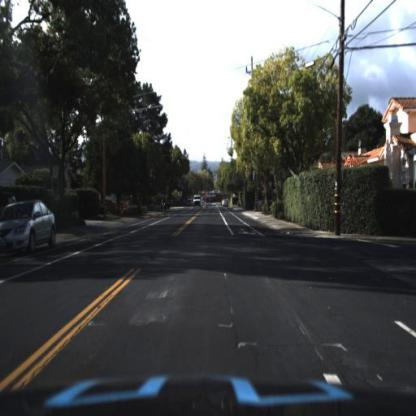biker: (160, 197, 169, 218)
car: (1, 195, 59, 267), (96, 197, 121, 220), (190, 193, 204, 216), (222, 196, 232, 208)
